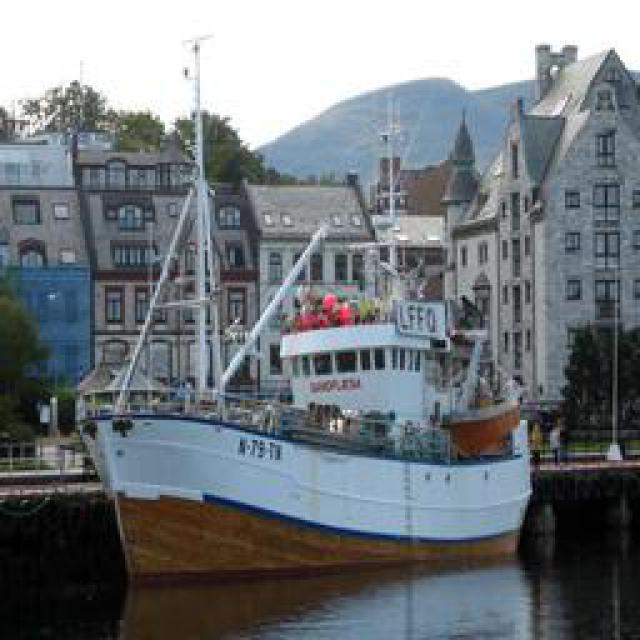Ship: (77, 82, 537, 560)
